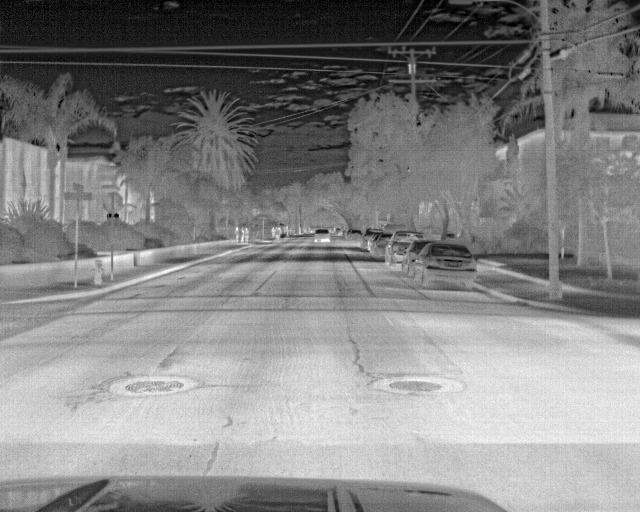car: (412, 241, 478, 292), (386, 233, 423, 267), (398, 243, 427, 281), (372, 234, 396, 257), (345, 229, 366, 247), (312, 228, 332, 245)
